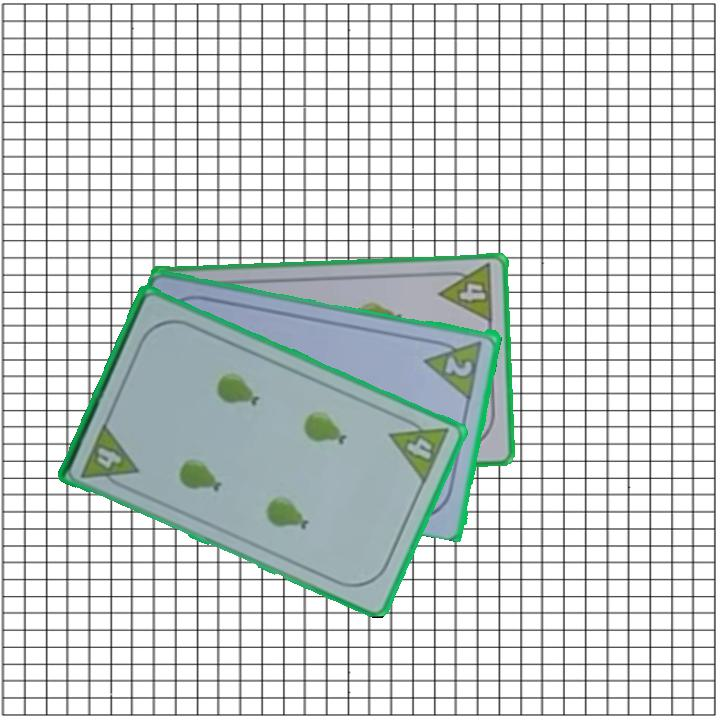2p: (441, 351, 476, 379)
4p: (386, 410, 452, 487), (78, 419, 141, 493), (435, 260, 496, 325)
